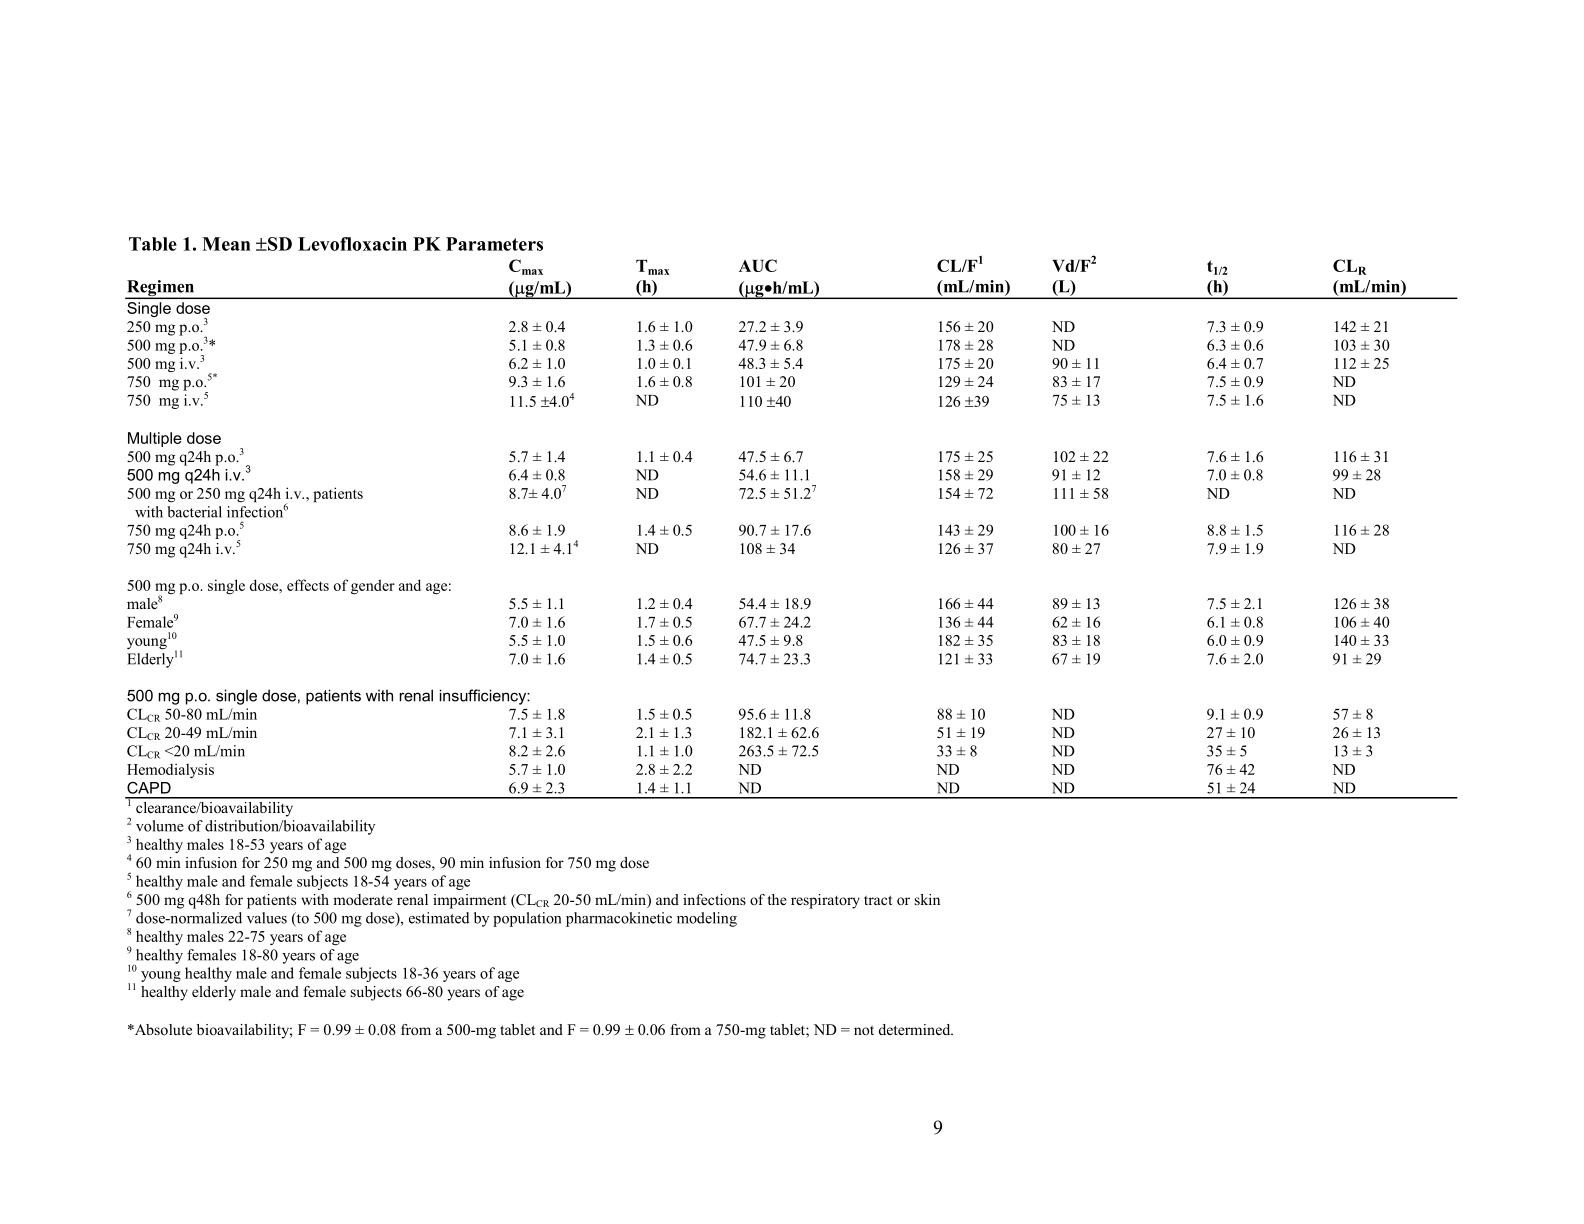partial_lined: (122, 255, 1462, 801)
